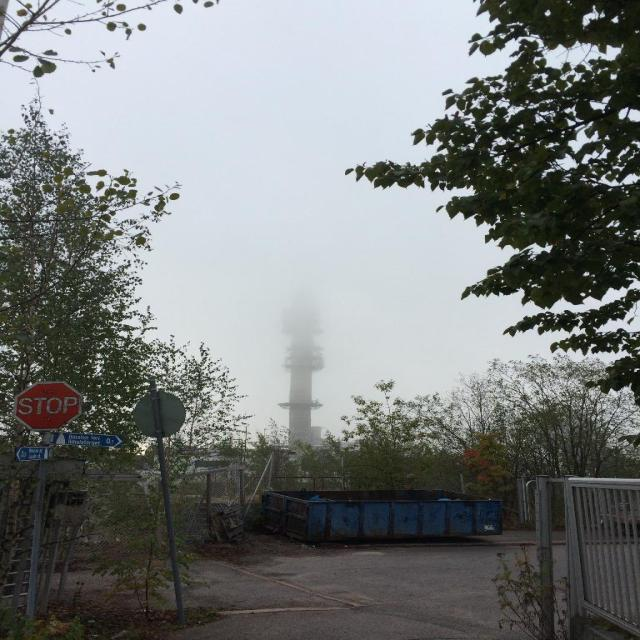Stop-sign: (14, 381, 86, 432)
